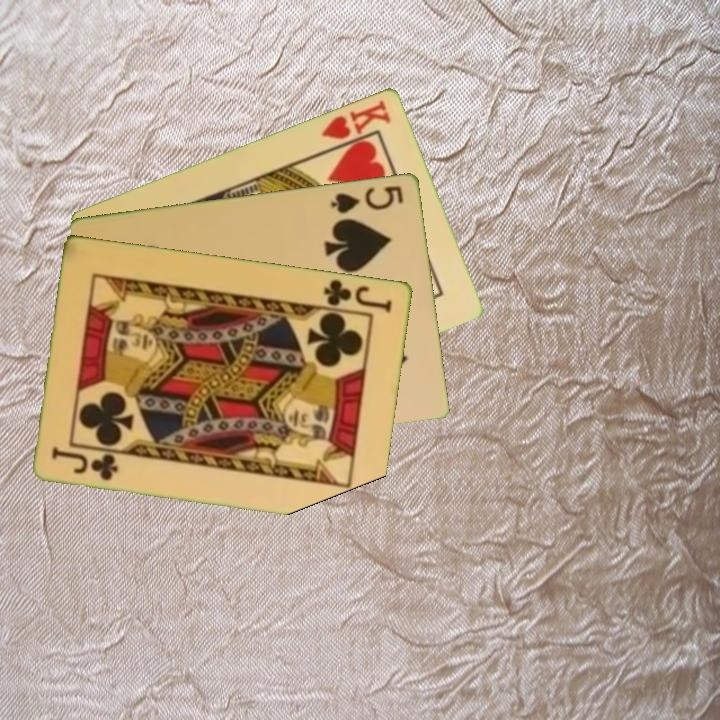5s: (327, 181, 407, 216)
Jc: (321, 275, 396, 316), (48, 443, 122, 483)
Kh: (318, 96, 394, 153)
